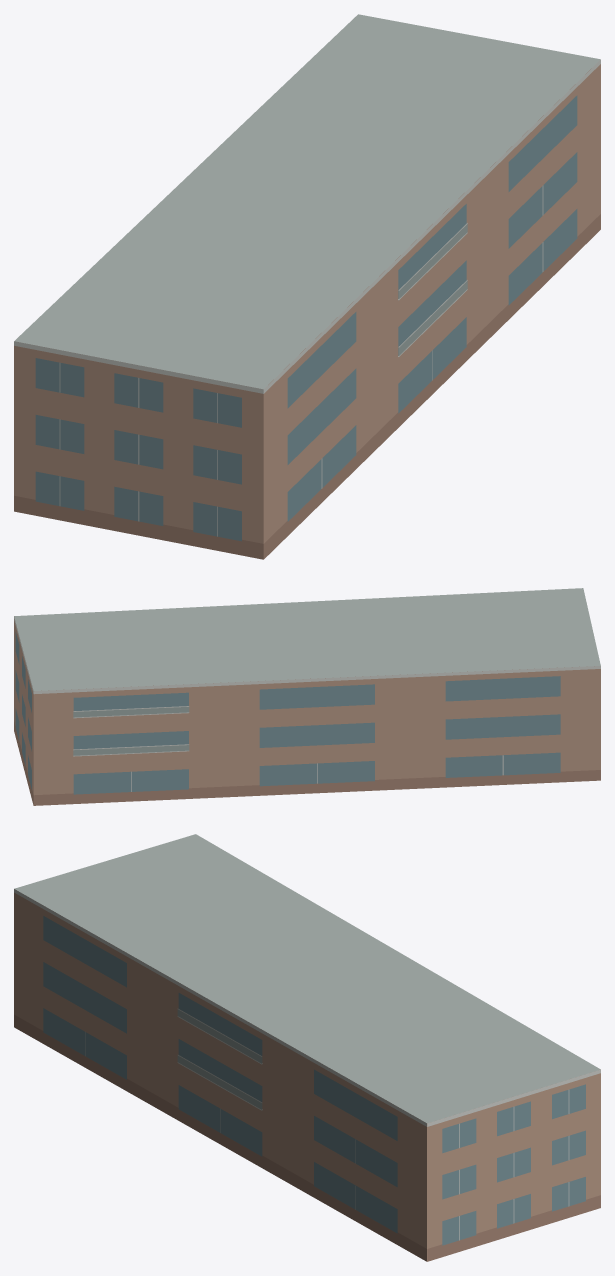
The model's file is survey-upis-32632702.glb.
3 renders of one model, top to bottom at view 1: azimuth 30°, elevation 25°; view 2: azimuth 150°, elevation 25°; view 3: azimuth 270°, elevation 25°, orthographic. The views are drawn at different scales.
Visible parts, largest first — view 1: survey-upis-32632702.tmp; view 2: survey-upis-32632702.tmp; view 3: survey-upis-32632702.tmp.
Part boxes in pixels (x1,y1,x2,y2): survey-upis-32632702.tmp: (14,14,600,559); survey-upis-32632702.tmp: (14,588,600,805); survey-upis-32632702.tmp: (14,834,600,1261).
Size of the model in its own units: 40.99 by 9.15 by 35.14.
